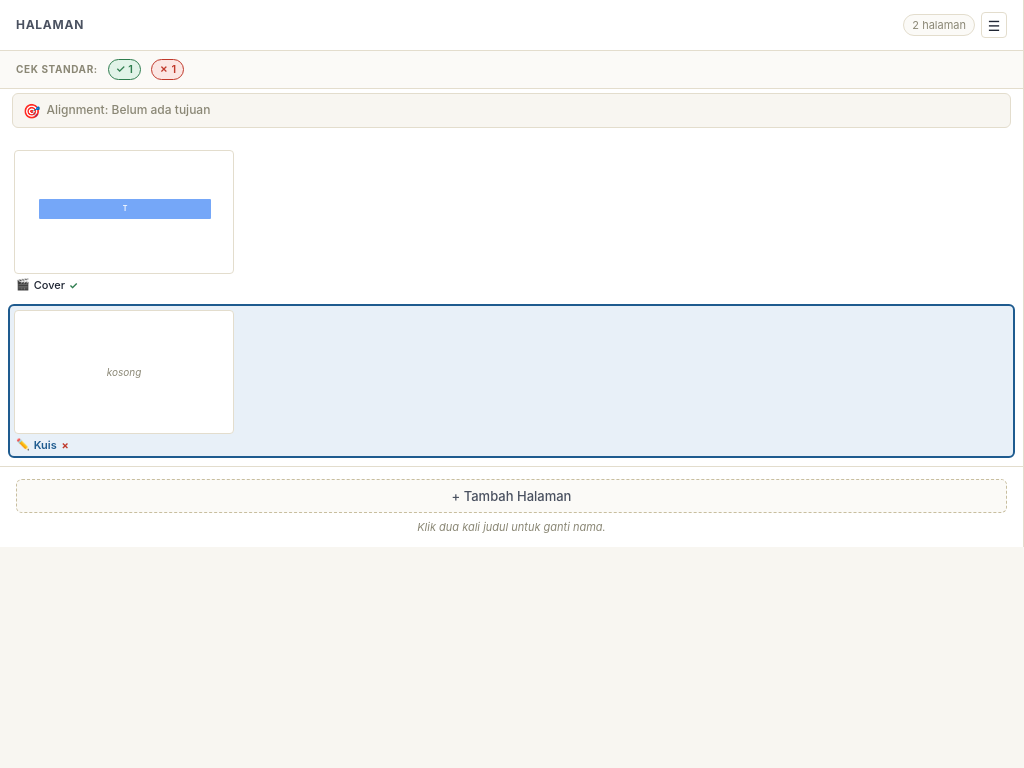
Test: UX-02 — PagePanel rendering › issue toggle button allows collapse/expand
Click the button with test id "page-panel-view-toggle": (994, 25) [981,12,1007,38]
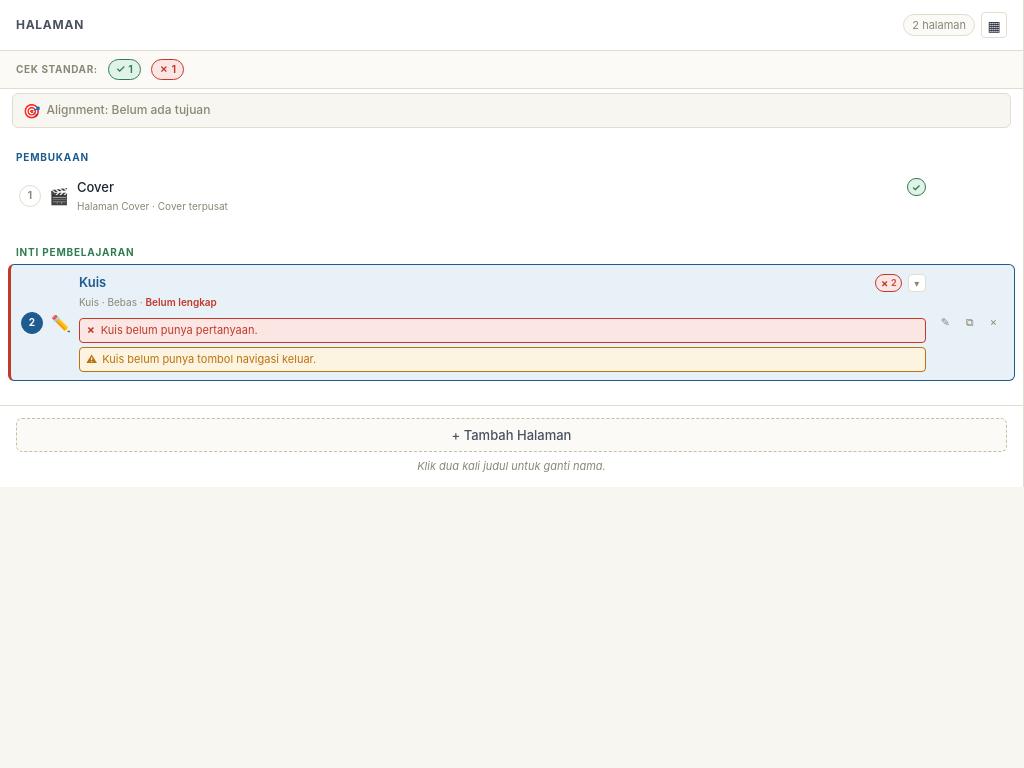
Check: the button with test id "page-issue-toggle-" is shown
Click the button with test id "page-issue-toggle-": (917, 283) [908,274,926,292]
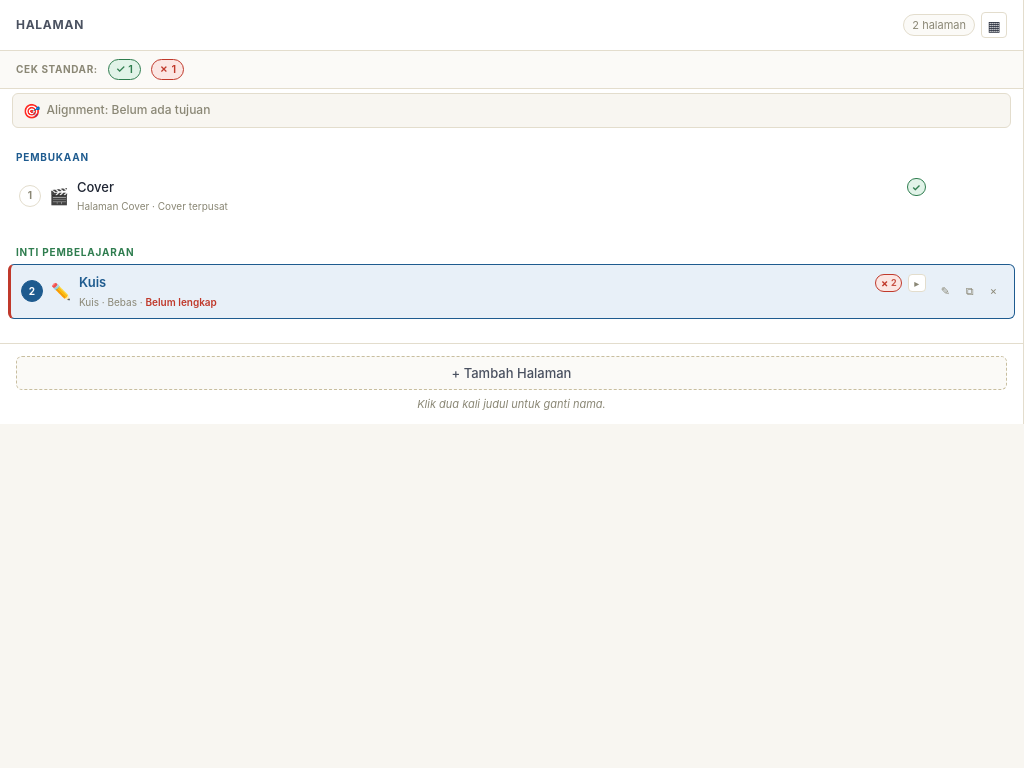
Check: the button with test id "page-issue-toggle-" is collapsed, box [908,274,926,292]
